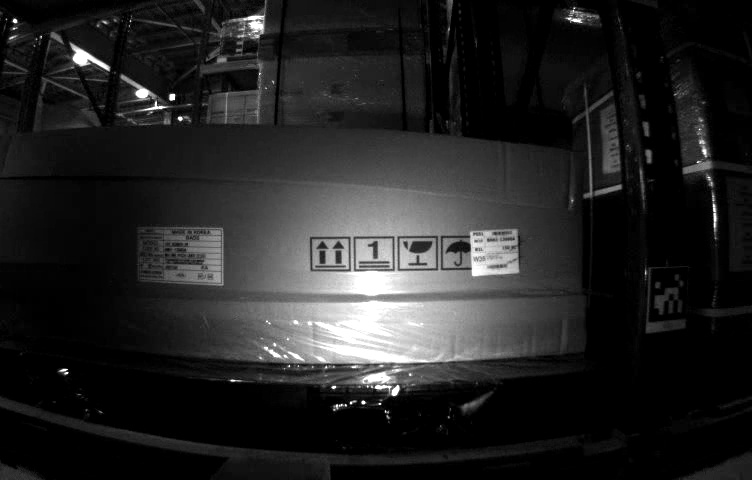True Barcode: (470, 230, 520, 275), (721, 81, 749, 117)
